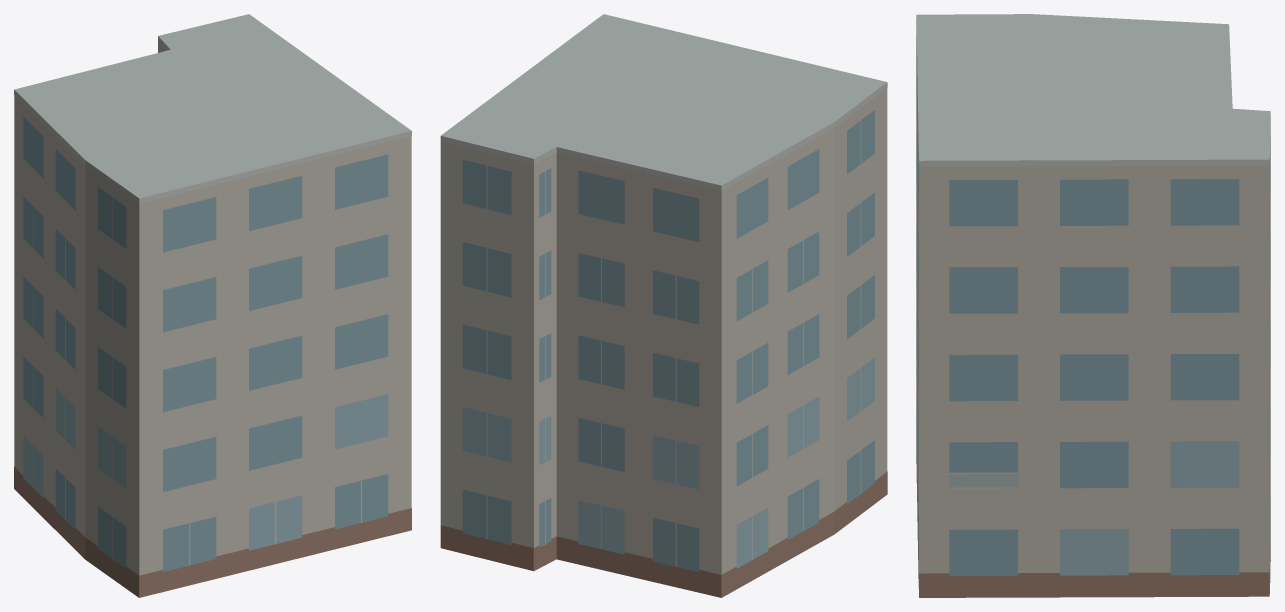
Rendered from survey-upis-32897274.glb.
3 views of the same model, side by side, from view 1: azimuth 30°, elevation 25°; view 2: azimuth 150°, elevation 25°; view 3: azimuth 270°, elevation 25° (orthographic). The views are drawn at different scales.
Visible parts, largest first — view 1: survey-upis-32897274.tmp; view 2: survey-upis-32897274.tmp; view 3: survey-upis-32897274.tmp.
Part boxes in pixels (x1,y1,x2,y2): survey-upis-32897274.tmp: (14, 14, 411, 597); survey-upis-32897274.tmp: (440, 14, 887, 597); survey-upis-32897274.tmp: (916, 14, 1270, 597).
Size of the model in its own units: 12.99 by 17.98 by 13.21.
